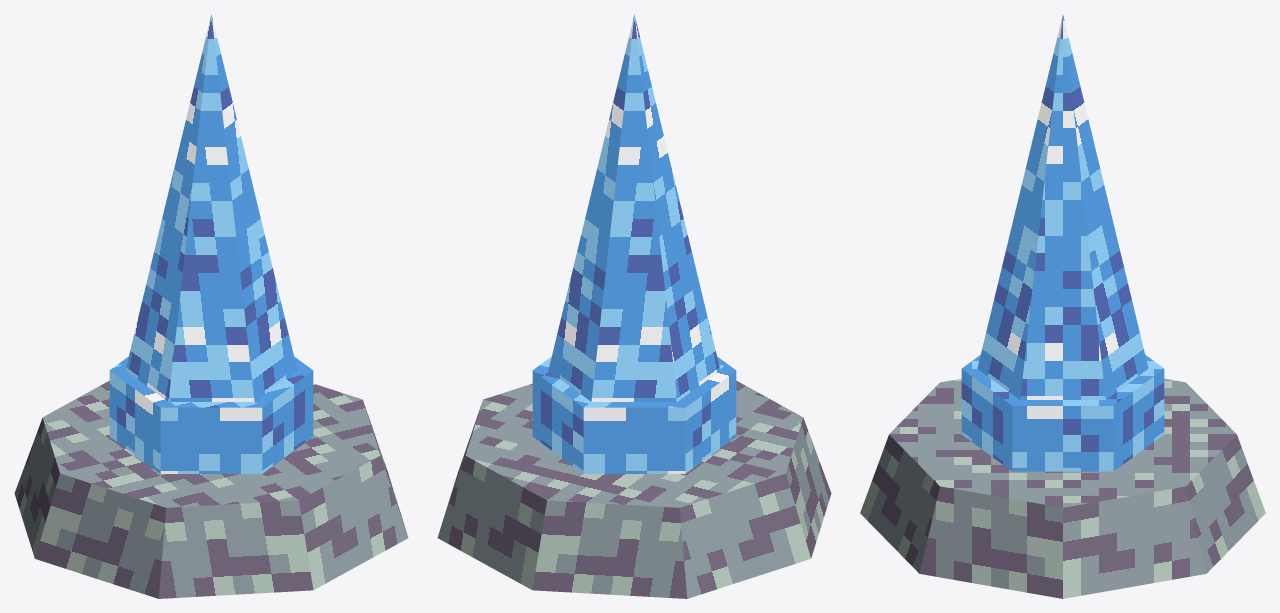
The model's file is r09_cristal.glb.
The picture shows the model from 3 angles, left to right: view 1: azimuth 30°, elevation 25°; view 2: azimuth 150°, elevation 25°; view 3: azimuth 270°, elevation 25°; orthographic projection.
Parts seen in each view (by area): view 1: r09_cristal; view 2: r09_cristal; view 3: r09_cristal.
Boxes of the visible parts, bbox=[...] form: r09_cristal: bbox=[14, 14, 408, 598]; r09_cristal: bbox=[437, 14, 831, 598]; r09_cristal: bbox=[860, 15, 1265, 598].
Size of the model in its own units: 1.4 by 1.9 by 1.4.
2 materials, 2 textured.
